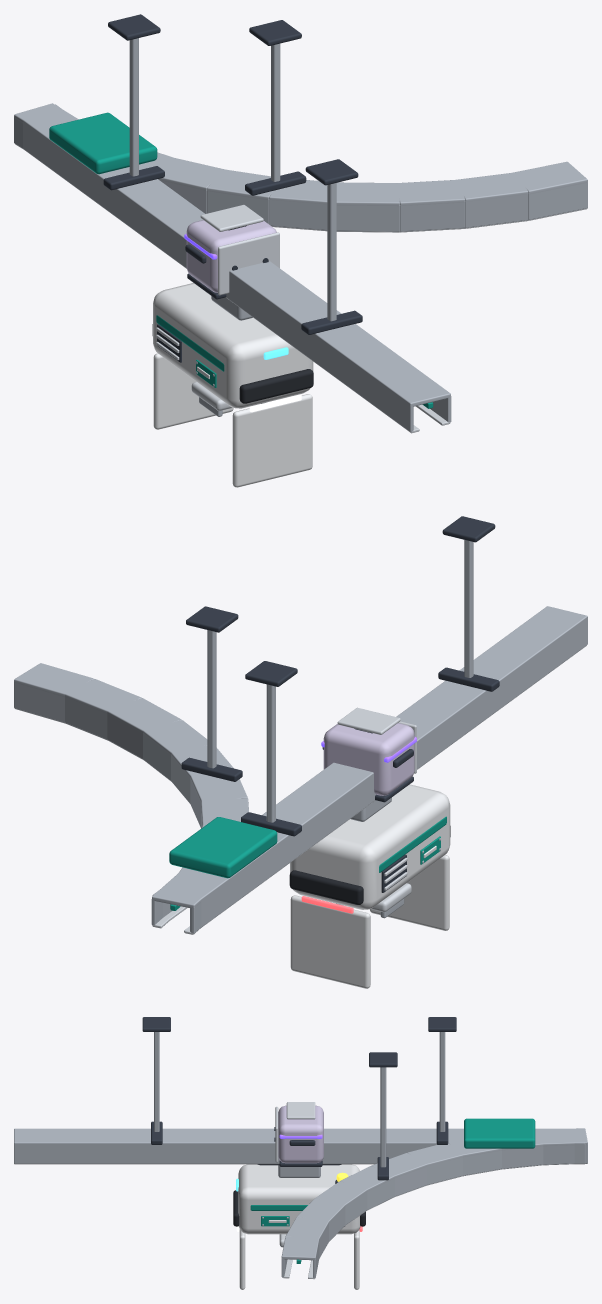
The model's file is oht.glb.
3 renders of one model, top to bottom at view 1: azimuth 30°, elevation 25°; view 2: azimuth 150°, elevation 25°; view 3: azimuth 270°, elevation 25°, orthographic. The views are drawn at different scales.
Visible parts, largest first — view 1: rail_junction_mesh, rail_curve_mesh, oht_a_shell, foup_eng_body, rail_straight_mesh, foup_eng_door, oht_a_hoist; view 2: rail_junction_mesh, oht_a_shell, rail_curve_mesh, foup_eng_body, rail_straight_mesh, oht_a_hoist; view 3: rail_junction_mesh, rail_curve_mesh, oht_a_shell, foup_eng_body, rail_straight_mesh.
Part boxes in pixels (x1,y1,x2,y2): rail_junction_mesh: (21,104,451,433); rail_curve_mesh: (14,20,587,232); oht_a_shell: (152,283,313,487); foup_eng_body: (184,204,276,299); rail_straight_mesh: (103,14,164,190); foup_eng_door: (218,232,279,295); oht_a_hoist: (191,382,265,416); rail_junction_mesh: (152,516,587,932); oht_a_shell: (289,784,450,988); rail_curve_mesh: (14,606,248,934); foup_eng_body: (321,707,416,802); rail_straight_mesh: (241,661,301,836); oht_a_hoist: (336,883,411,918); rail_junction_mesh: (14,1017,585,1164); rail_curve_mesh: (281,1052,587,1279); oht_a_shell: (233,1164,365,1289); foup_eng_body: (278,1102,323,1166); rail_straight_mesh: (428,1017,456,1144).
Bounding box in the file's own units: 2.29 × 1.96 × 4.02.
